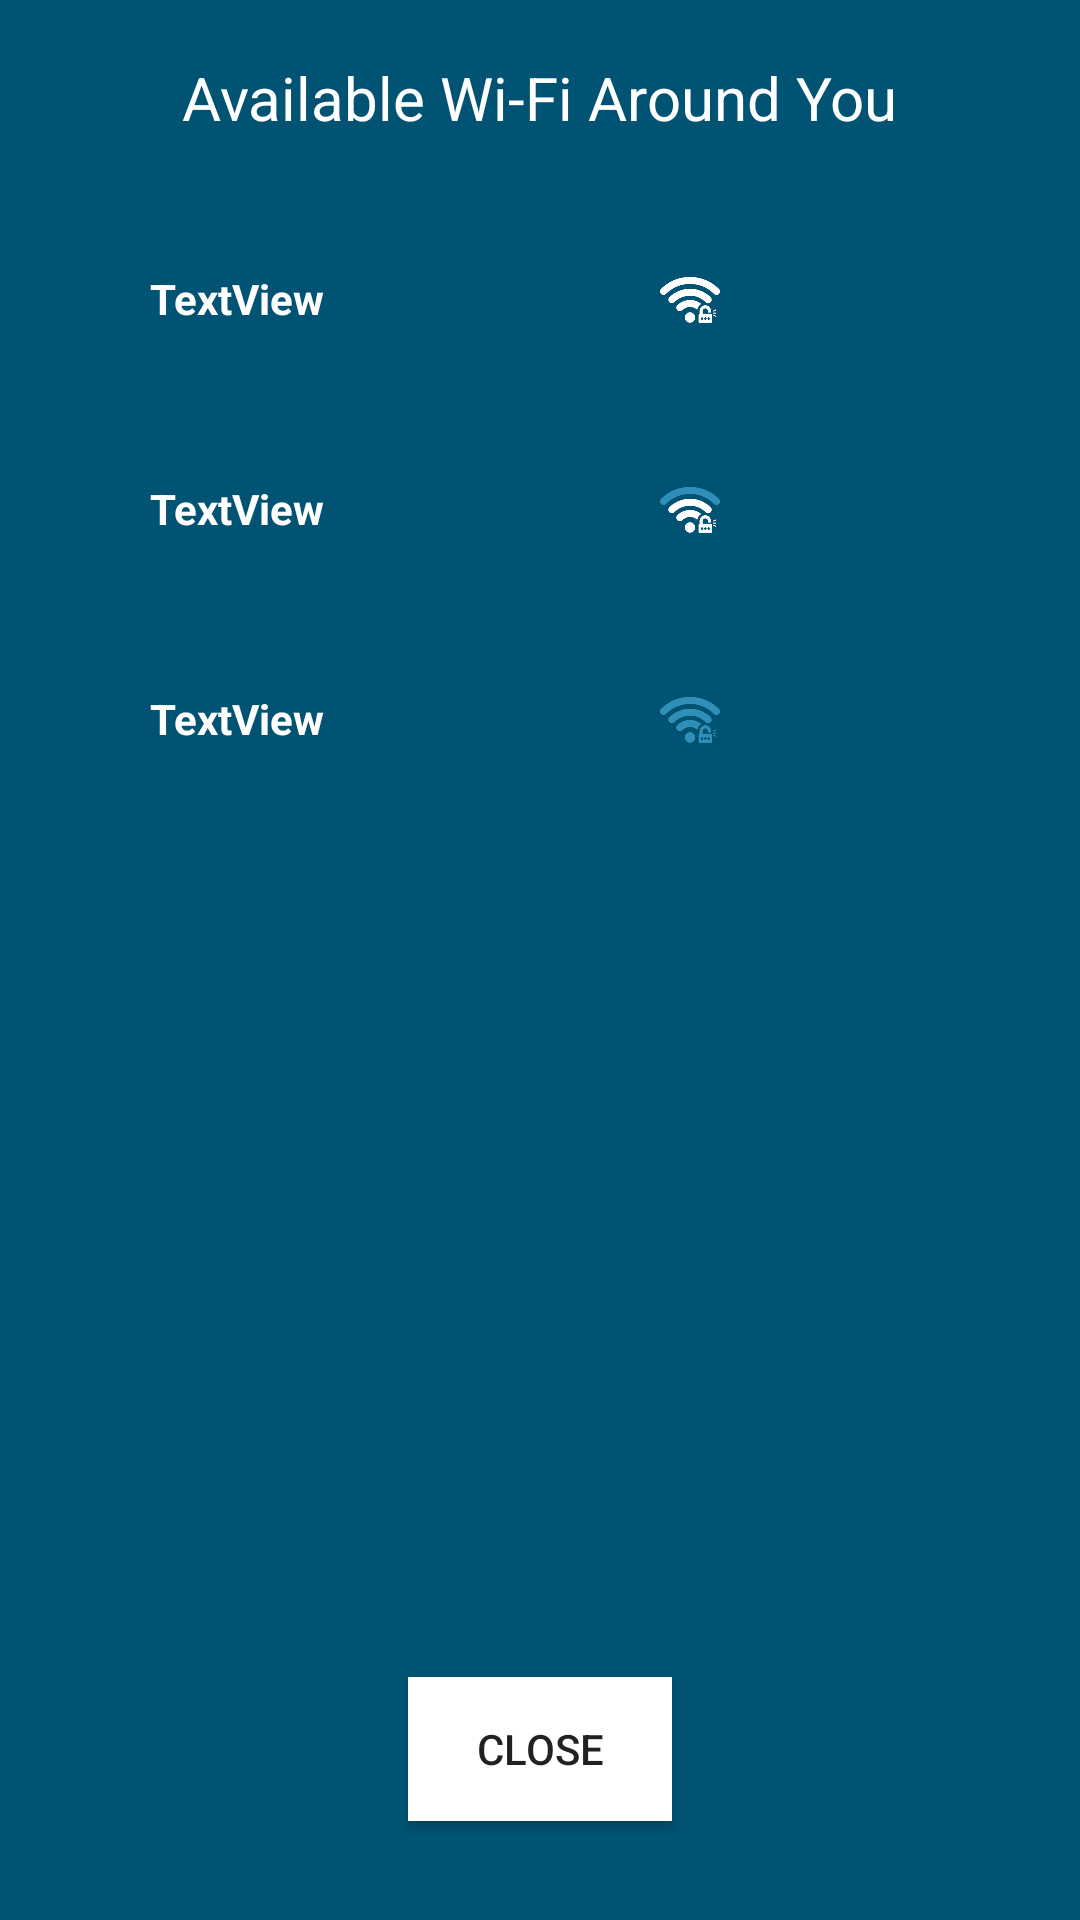

Icons on this 1080px×1920px Android screen, each with the point to tap as (x,y):
excellent: (690,300)
good: (690,510)
poor: (690,720)
